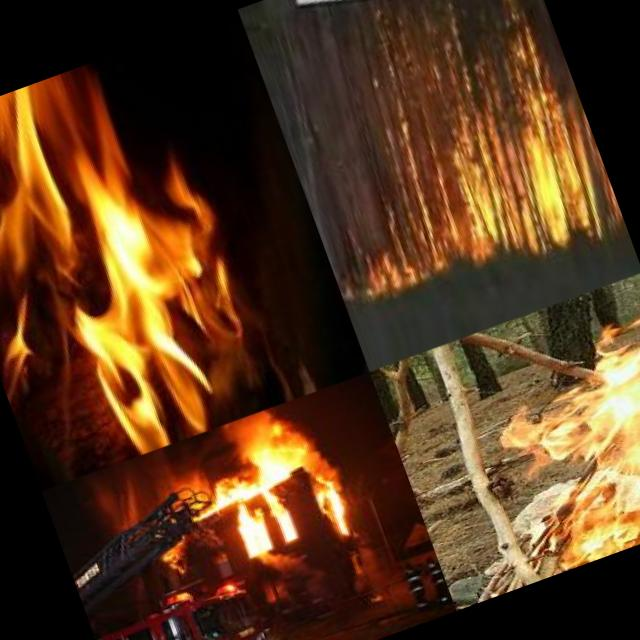fire: (0, 30, 309, 480), (286, 27, 624, 319), (468, 280, 640, 576), (191, 394, 356, 562), (84, 437, 214, 537), (155, 530, 203, 582)
smoke: (251, 532, 313, 590)
